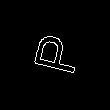P_W: (21, 32, 80, 81)
